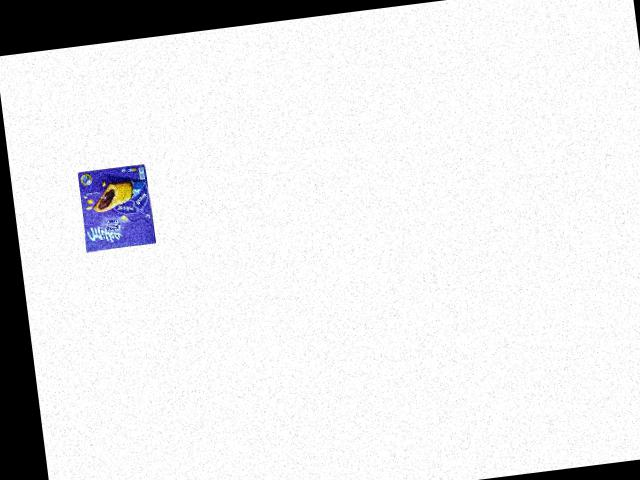chocolate: (72, 158, 159, 257)
